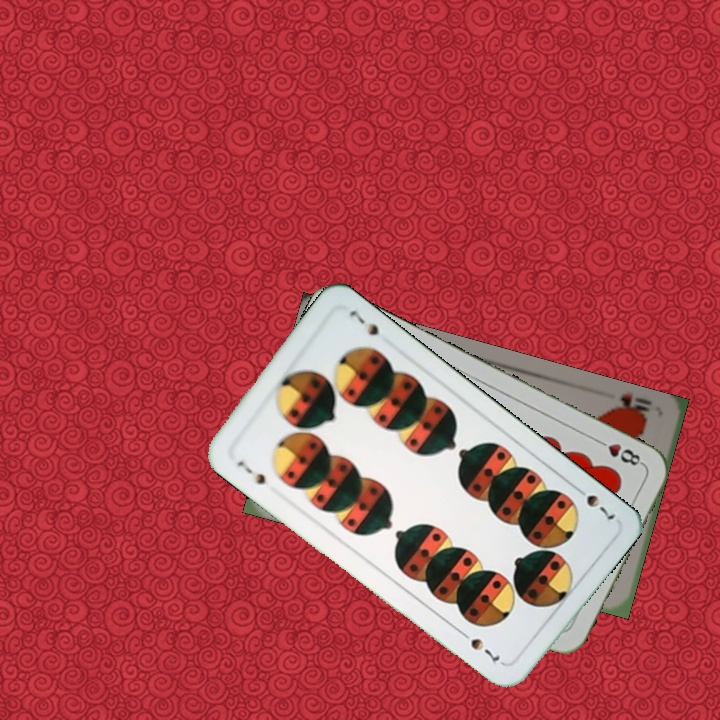H8: (591, 435, 646, 469)
HO: (606, 389, 655, 423)
S7: (569, 481, 619, 523), (232, 456, 269, 488)
